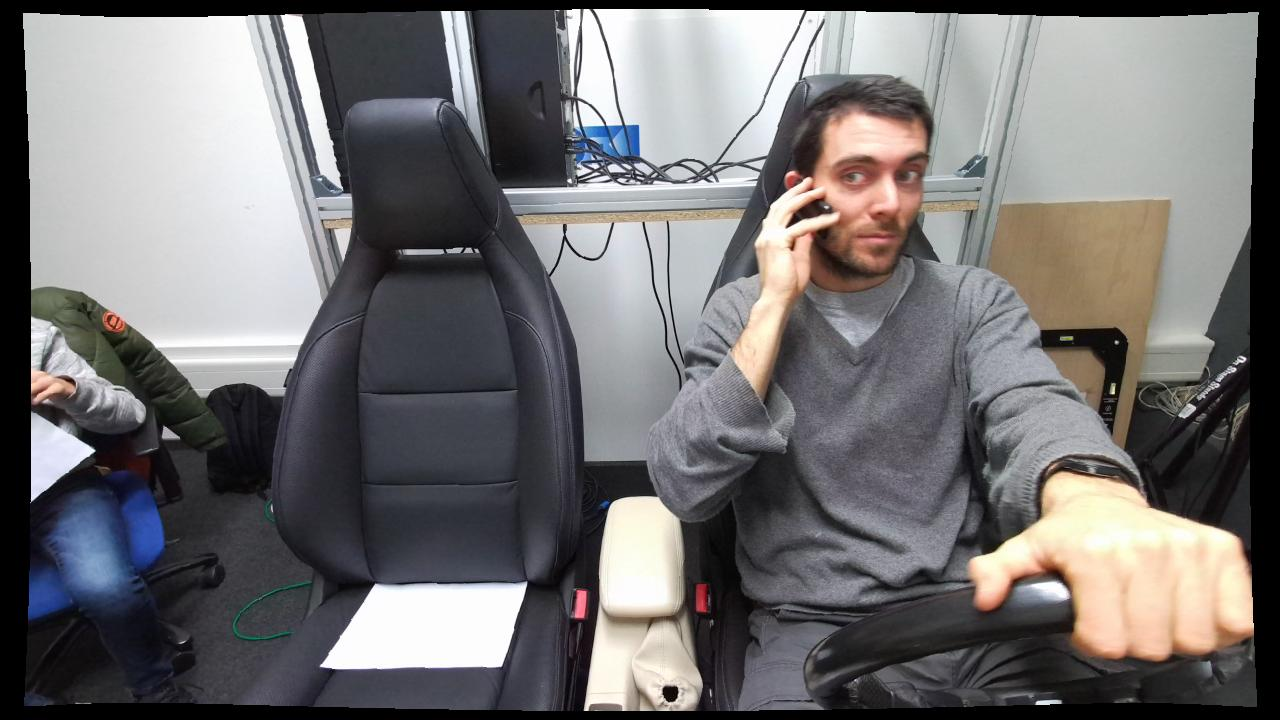PhoneUse: (763, 170, 838, 248)
